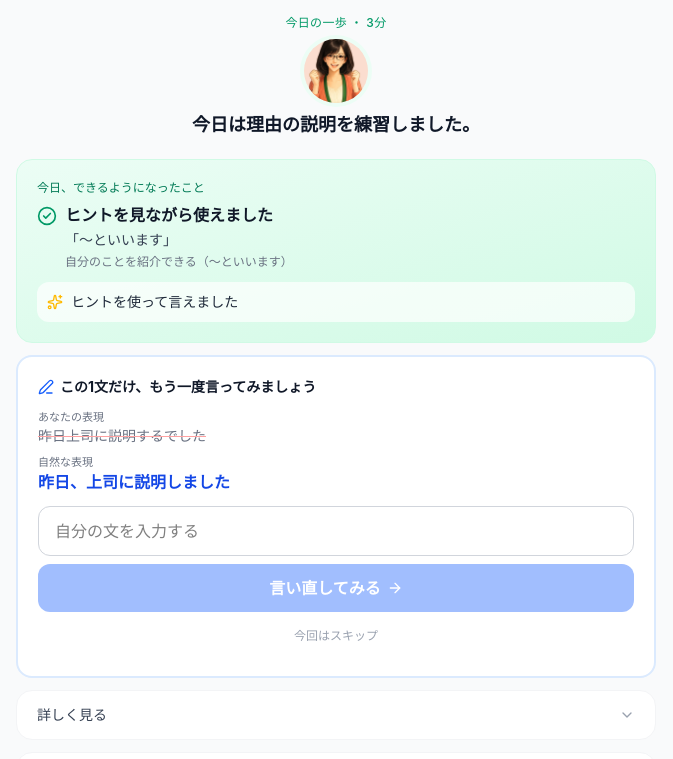
it: CourseReport（会話後の一本道） › スキップすると「今日の学習完了」ストリップと次の復習日が出る
Click the button "今回はスキップ".
click(336, 636)  # box [38,616,634,656]
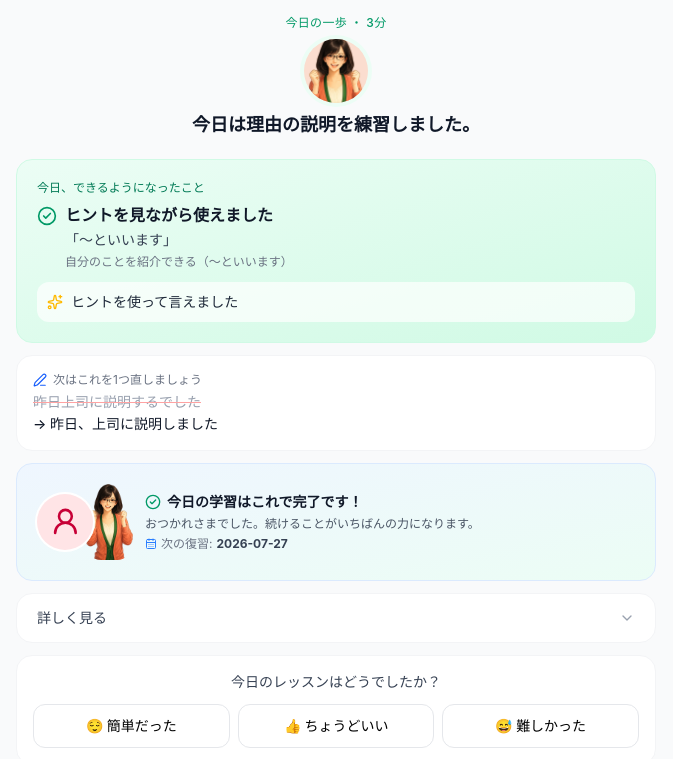
Result: the text "今日の学習はこれで完了です！" is shown at [145,493,363,510]
Result: the text "2026-07-27" is shown at [216,536,288,552]
